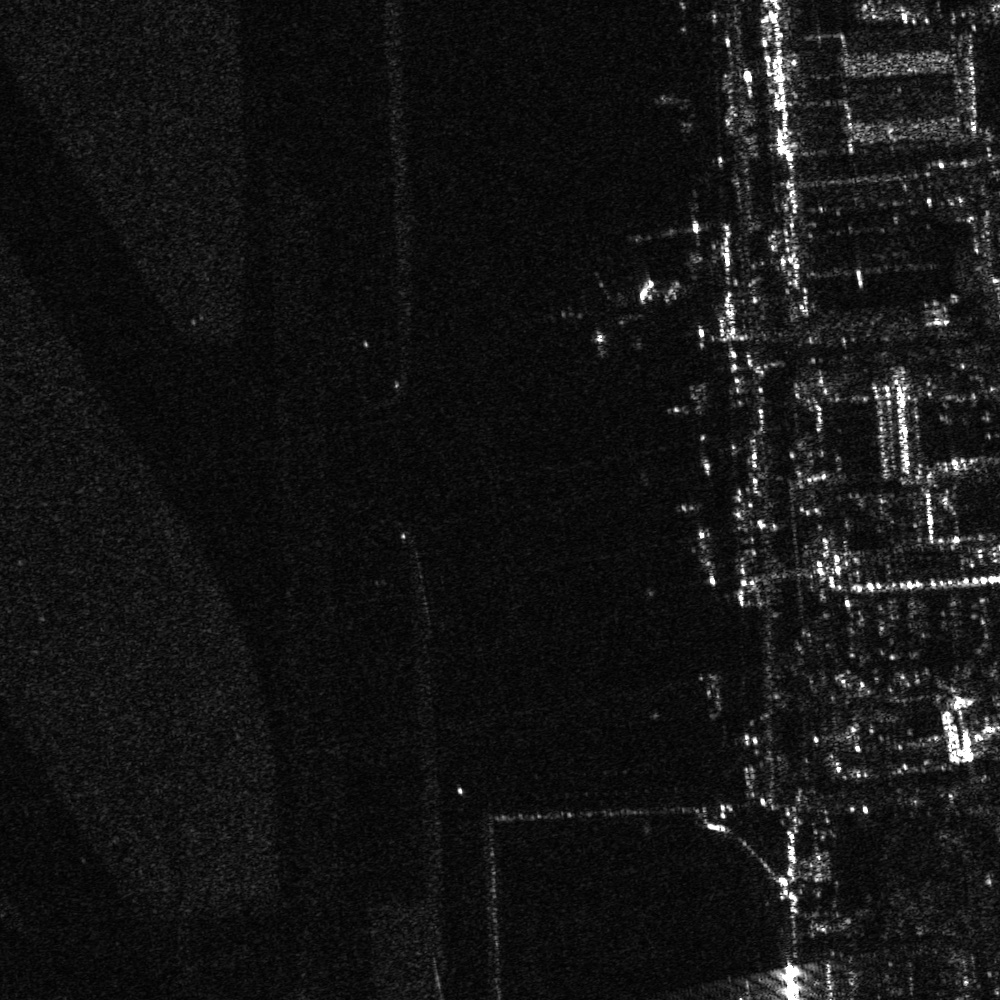A320/321: (629, 191, 718, 258)
other: (550, 273, 649, 354)
